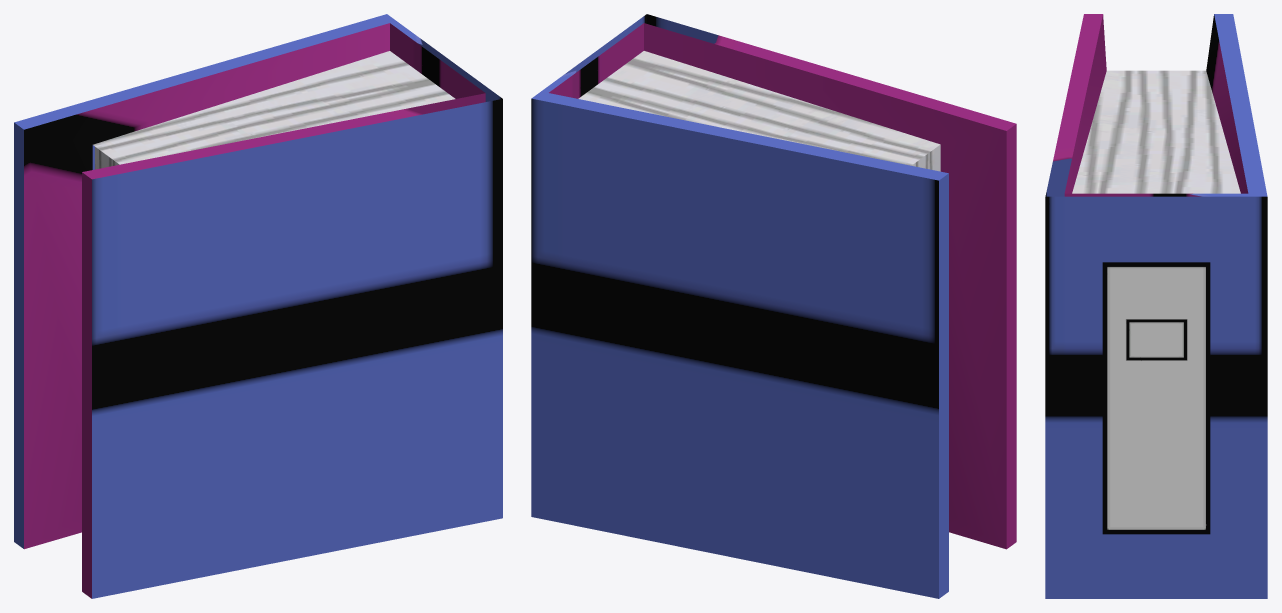
The model's file is Folder_Blue_Individual.fbx.
3 renders of one model, left to right at view 1: azimuth 30°, elevation 25°; view 2: azimuth 150°, elevation 25°; view 3: azimuth 270°, elevation 25°, orthographic. The views are drawn at different scales.
Visible parts, largest first — view 1: Folder44; view 2: Folder44; view 3: Folder44.
Part boxes in pixels (box(x1,y1,x2,y2)): Folder44: box(14, 14, 502, 598); Folder44: box(531, 14, 1016, 598); Folder44: box(1045, 14, 1267, 598).
Bounding box in the file's own units: 30.04 × 30.73 × 15.38.
